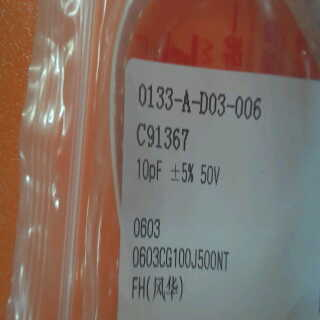10pF: (134, 152, 168, 183)
